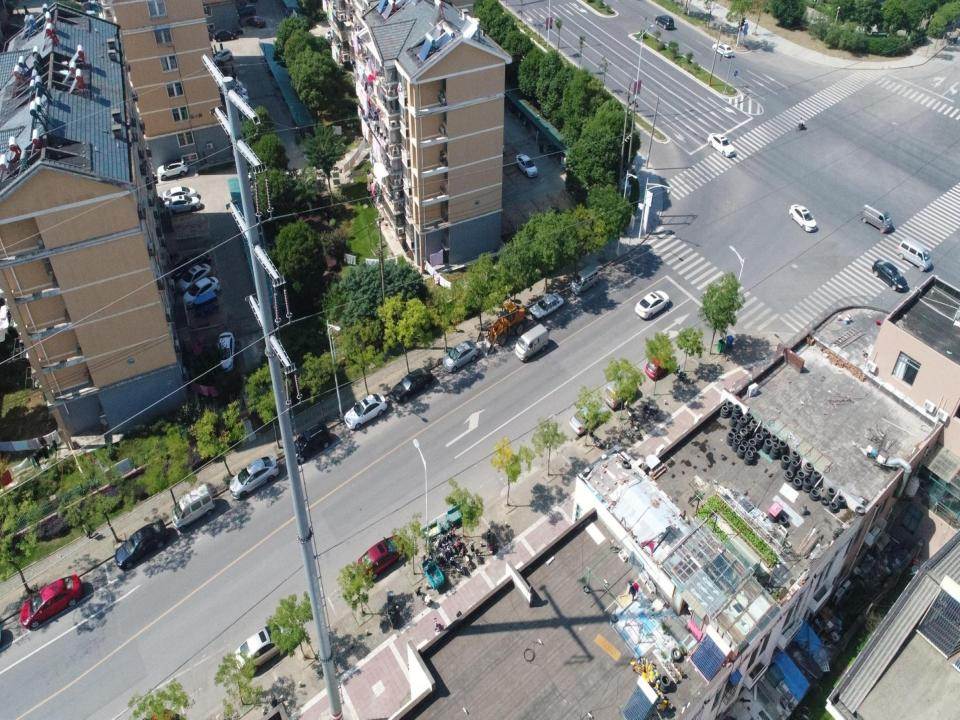car: (19, 574, 82, 628), (235, 620, 295, 674), (114, 519, 168, 569), (357, 534, 410, 580), (228, 455, 280, 500), (289, 421, 330, 463), (344, 392, 388, 430), (390, 366, 434, 402), (569, 401, 609, 435), (182, 275, 221, 309), (442, 339, 479, 373), (871, 259, 908, 292), (176, 263, 212, 295), (528, 291, 564, 321), (172, 248, 207, 278), (635, 290, 670, 320), (645, 351, 674, 382), (163, 194, 200, 216), (788, 204, 816, 233), (216, 331, 234, 374), (157, 158, 188, 182), (707, 132, 735, 158), (161, 185, 196, 202), (515, 153, 538, 178), (711, 42, 734, 58), (212, 28, 236, 43), (213, 48, 233, 66), (654, 14, 675, 30), (246, 16, 266, 30), (227, 94, 249, 106), (221, 77, 243, 89), (227, 86, 248, 98), (237, 5, 256, 17)
van: (171, 484, 215, 533), (514, 323, 549, 363), (603, 372, 638, 411), (895, 236, 932, 272), (860, 204, 893, 233), (569, 264, 598, 296)
